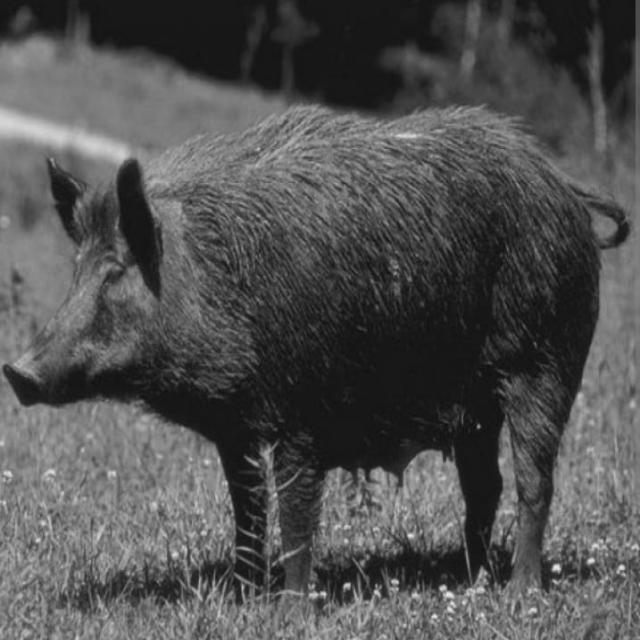boar: (4, 107, 630, 592)
